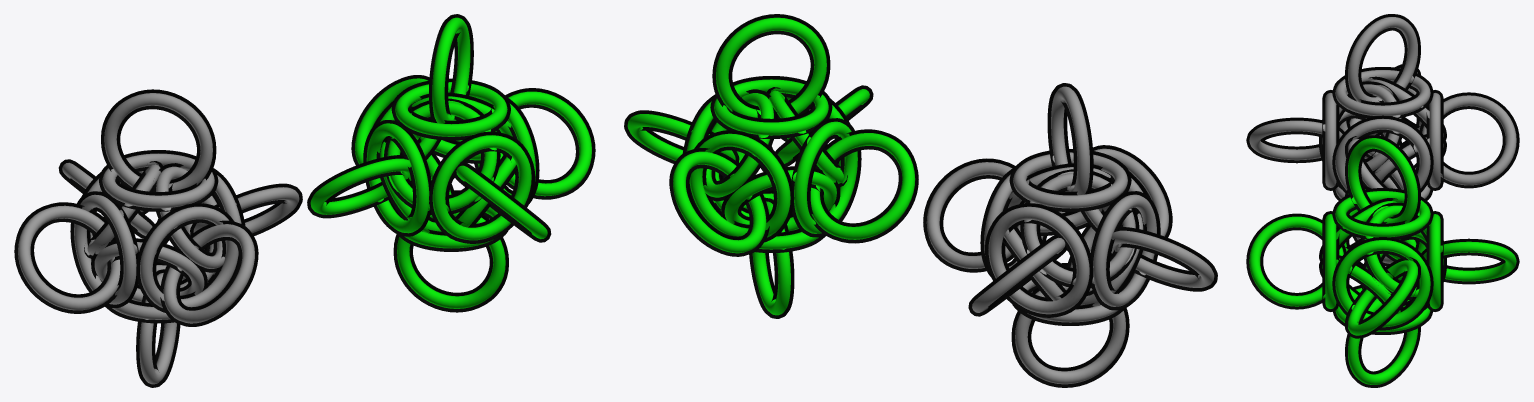
File: tetraorb_line_step_03.glb
The picture shows the model from 3 angles, left to right: view 1: azimuth 30°, elevation 25°; view 2: azimuth 150°, elevation 25°; view 3: azimuth 270°, elevation 25°; orthographic projection. The views are drawn at different scales.
Parts seen in each view (by area): view 1: Torus.010, Torus.517, Torus.520, Torus.515, Torus.509, Torus.007, Torus.514, Torus.006, Torus.002, Torus.011, Torus.511, Torus.001 (+17 smaller); view 2: Torus.510, Torus.005, Torus.001, Torus.003, Torus.009, Torus.514, Torus.007, Torus.518, Torus.519, Torus.511, Torus.011, Torus.520 (+17 smaller); view 3: Torus.008, Torus.516, Torus.004, Torus.005, Torus.517, Torus.002, Torus.513, Torus.011, Torus.511, Torus.515, Torus.003, Torus.006 (+13 smaller).
Part boxes in pixels (<box>): Torus.010: <box>429,131,535,243</box>; Torus.517: <box>101,89,216,190</box>; Torus.520: <box>14,202,120,313</box>; Torus.515: <box>160,220,258,326</box>; Torus.509: <box>136,203,238,312</box>; Torus.007: <box>363,120,432,236</box>; Torus.514: <box>70,191,139,307</box>; Torus.006: <box>393,212,508,312</box>; Torus.002: <box>495,88,595,199</box>; Torus.011: <box>391,78,510,140</box>; Torus.511: <box>99,150,218,211</box>; Torus.001: <box>307,155,411,218</box>; Torus.510: <box>985,203,1093,317</box>; Torus.005: <box>712,14,830,117</box>; Torus.001: <box>810,129,918,243</box>; Torus.003: <box>669,148,769,256</box>; Torus.009: <box>689,130,794,242</box>; Torus.514: <box>1089,191,1160,310</box>; Torus.007: <box>790,118,861,237</box>; Torus.518: <box>1011,285,1129,387</box>; Torus.519: <box>923,158,1025,272</box>; Torus.511: <box>1009,149,1131,211</box>; Torus.011: <box>710,76,832,138</box>; Torus.520: <box>1111,227,1217,291</box>; Torus.008: <box>1332,237,1433,330</box>; Torus.516: <box>1419,92,1519,188</box>; Torus.004: <box>1246,213,1346,309</box>; Torus.005: <box>1345,135,1420,223</box>; Torus.517: <box>1345,14,1420,102</box>; Torus.002: <box>1345,257,1420,338</box>; Torus.513: <box>1332,115,1433,192</box>; Torus.011: <box>1332,188,1433,240</box>; Torus.511: <box>1332,67,1433,118</box>; Torus.515: <box>1246,117,1344,163</box>; Torus.003: <box>1421,238,1519,284</box>; Torus.006: <box>1345,298,1420,387</box>.
Bounding box in the file's own units: 18.56 × 9.06 × 9.06.
